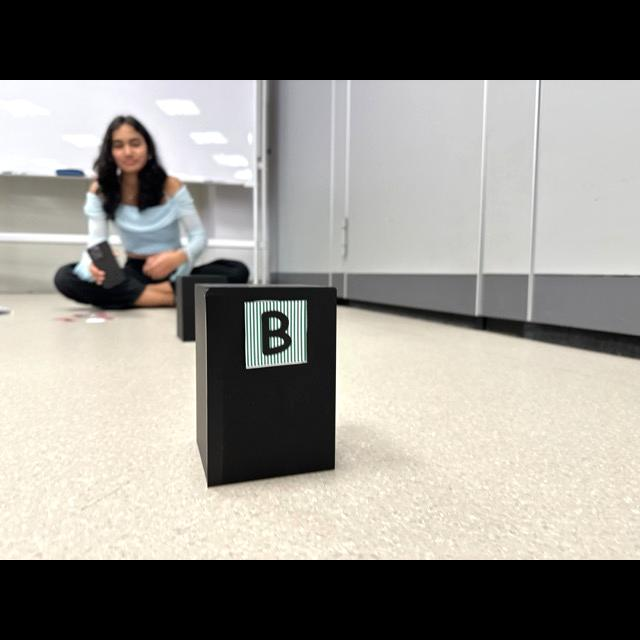B: (262, 311, 291, 355)
